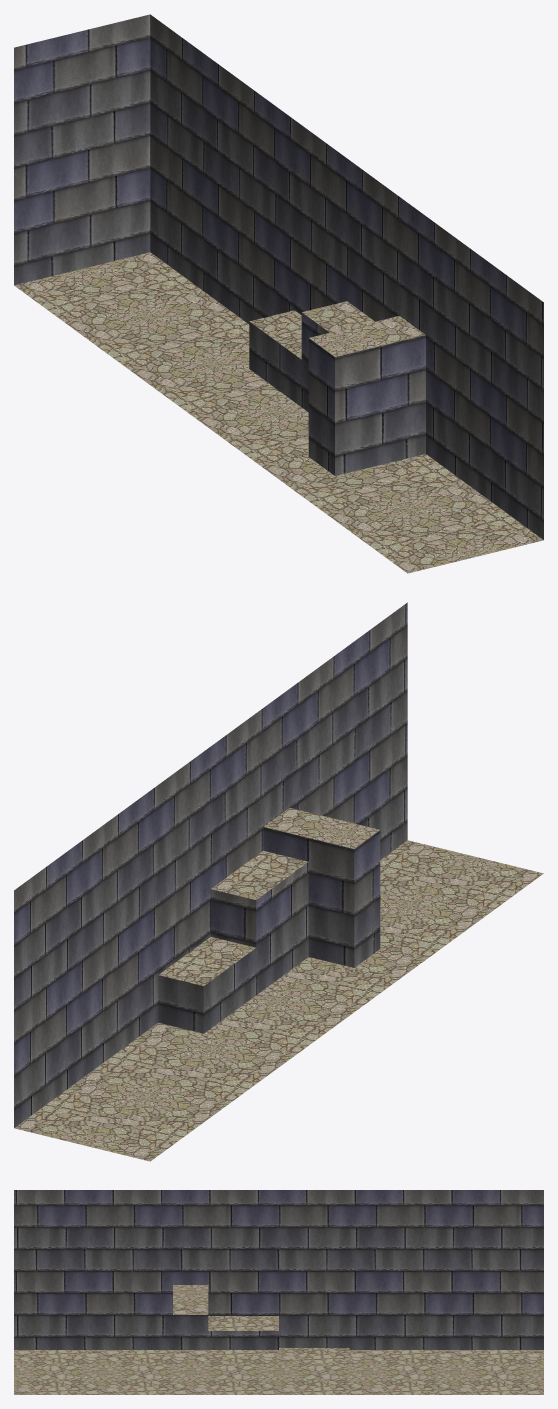
3 renders of one model, top to bottom at view 1: azimuth 30°, elevation 25°; view 2: azimuth 150°, elevation 25°; view 3: azimuth 270°, elevation 25°, orthographic. The views are drawn at different scales.
Parts seen in each view (by area): view 1: SCENE0_Walls_Mesh, SCENE0_Floor_Mesh; view 2: SCENE0_Walls_Mesh, SCENE0_Floor_Mesh; view 3: SCENE0_Walls_Mesh, SCENE0_Floor_Mesh.
Part boxes in pixels (x1,y1,x2,y2): SCENE0_Walls_Mesh: (14,14,543,539); SCENE0_Floor_Mesh: (14,252,543,573); SCENE0_Walls_Mesh: (14,602,407,1127); SCENE0_Floor_Mesh: (14,807,543,1161); SCENE0_Walls_Mesh: (14,1190,543,1349); SCENE0_Floor_Mesh: (14,1285,543,1394).
Bounding box in the file's own units: 6 × 10 × 30.
2 materials, 2 textured.
